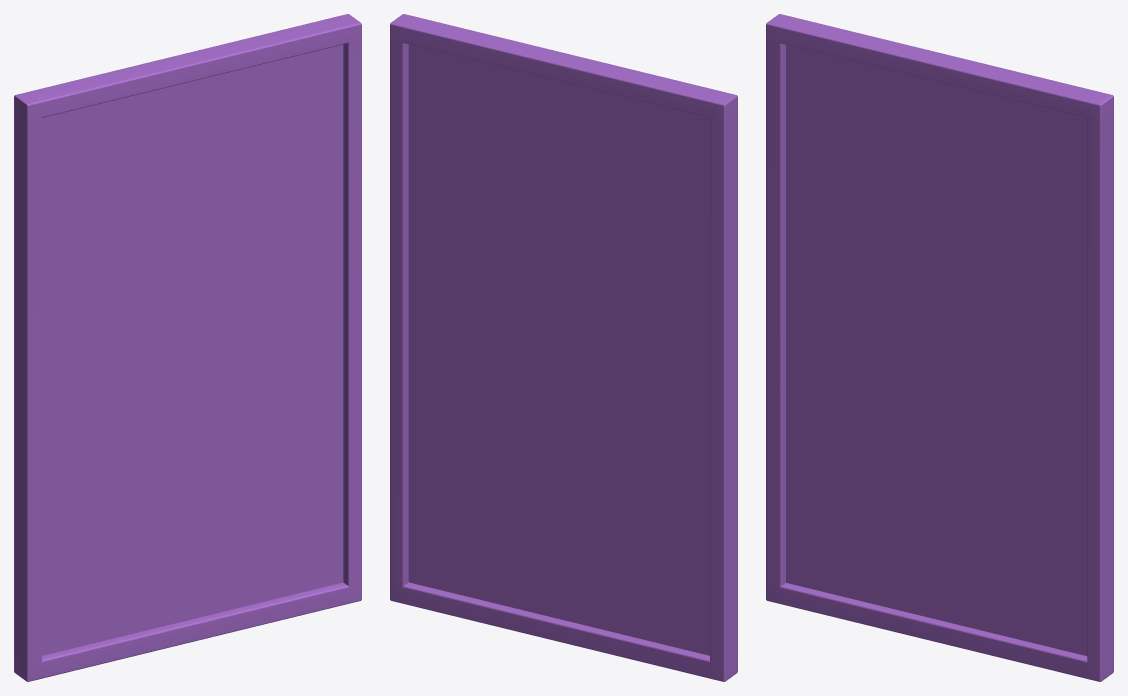
The model's file is cuadro02C.fbx.
3 views of the same model, side by side, from view 1: azimuth 30°, elevation 25°; view 2: azimuth 150°, elevation 25°; view 3: azimuth 330°, elevation 25° (orthographic).
Parts seen in each view (by area): view 1: cuadro10; view 2: cuadro10; view 3: cuadro10.
Part boxes in pixels (box(x1,y1,x2,y2)): cuadro10: box(14, 14, 361, 681); cuadro10: box(390, 14, 737, 681); cuadro10: box(766, 14, 1113, 681).
Bounding box in the file's own units: 0.5427 × 0.8939 × 0.0389.
